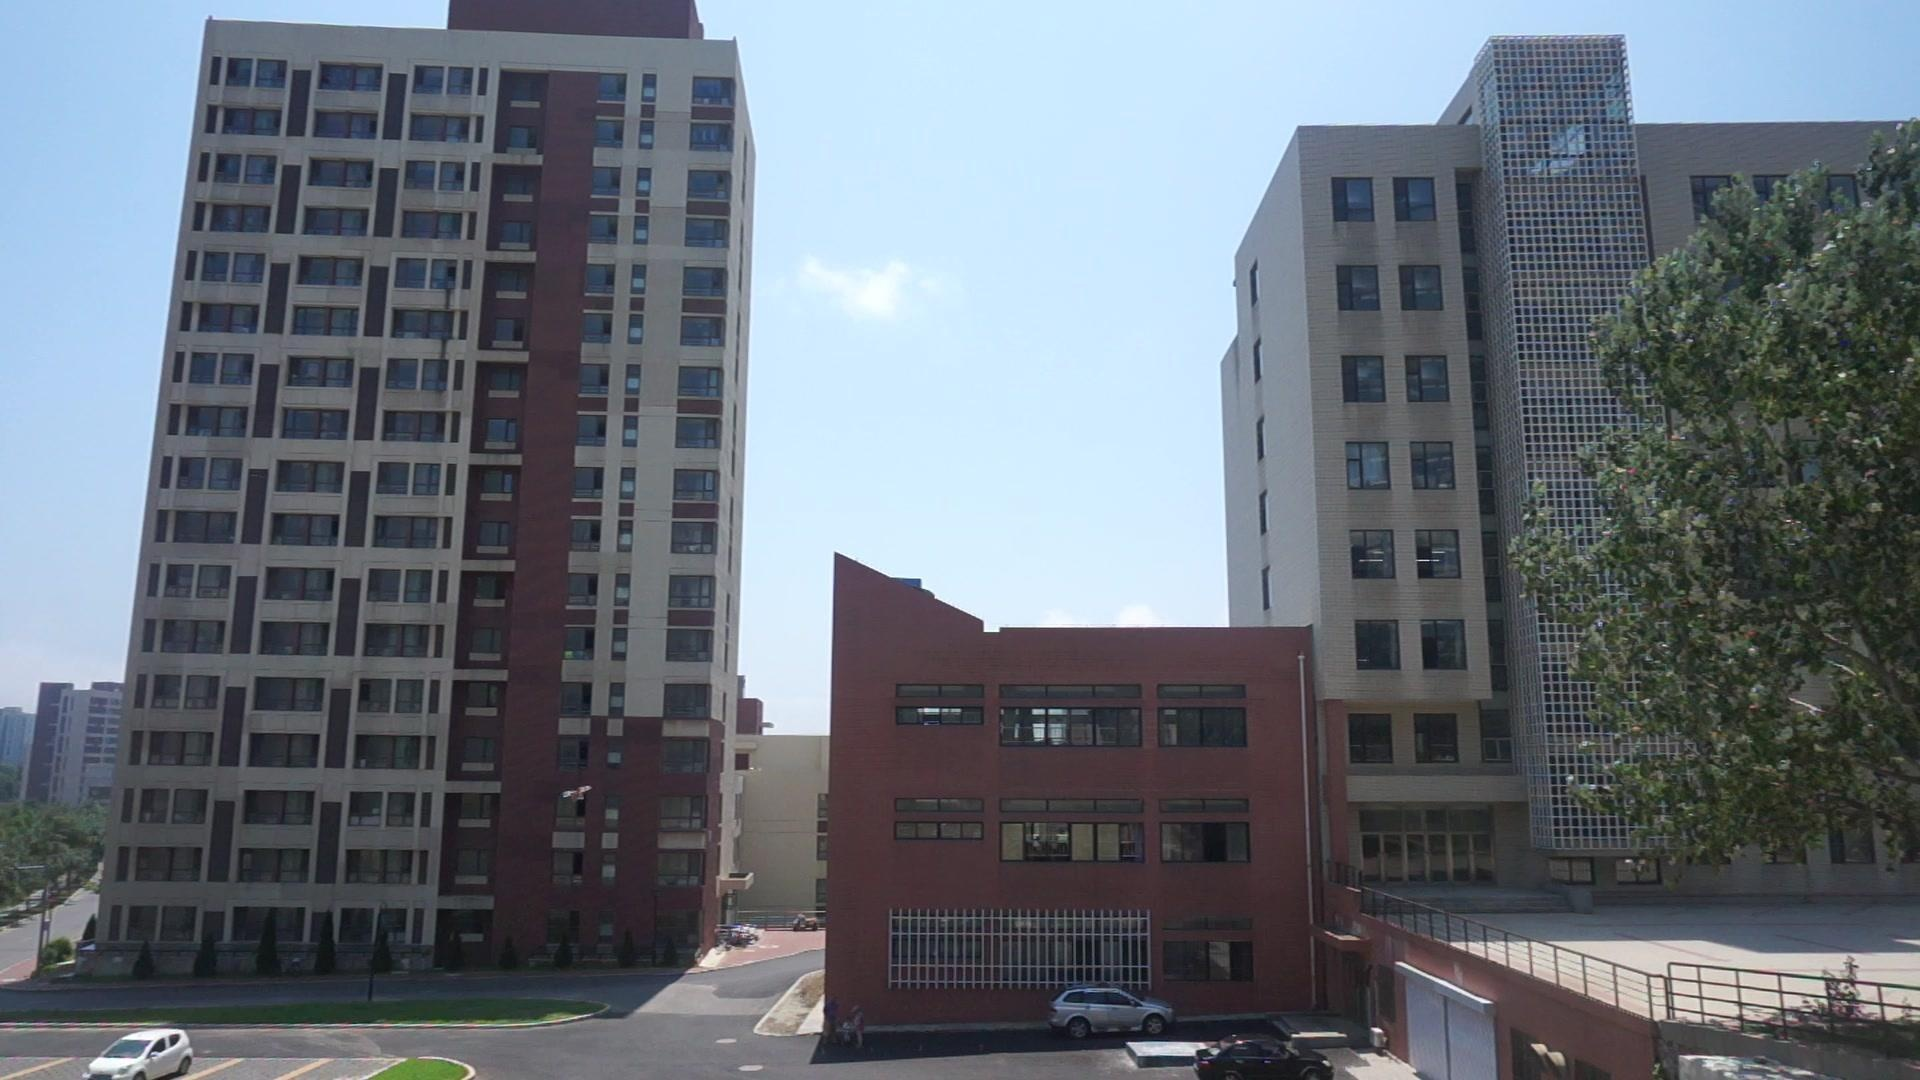UAV: (562, 786, 593, 800)
